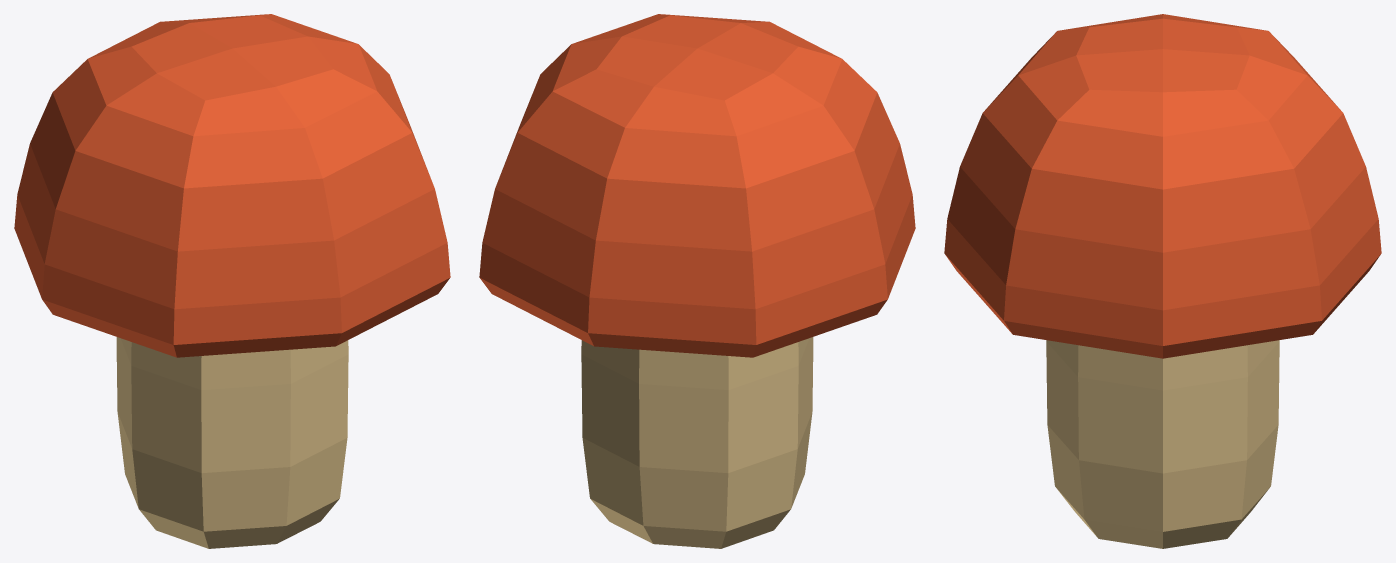
Rendered from mushroom4.fbx.
3 renders of one model, left to right at view 1: azimuth 30°, elevation 25°; view 2: azimuth 150°, elevation 25°; view 3: azimuth 270°, elevation 25°, orthographic.
Parts seen in each view (by area): view 1: Mushroom4; view 2: Mushroom4; view 3: Mushroom4.
Part boxes in pixels (x1,y1,x2,y2): Mushroom4: (14, 14, 450, 548); Mushroom4: (479, 14, 915, 548); Mushroom4: (944, 14, 1381, 548).
Size of the model in its own units: 105 by 123 by 105.
